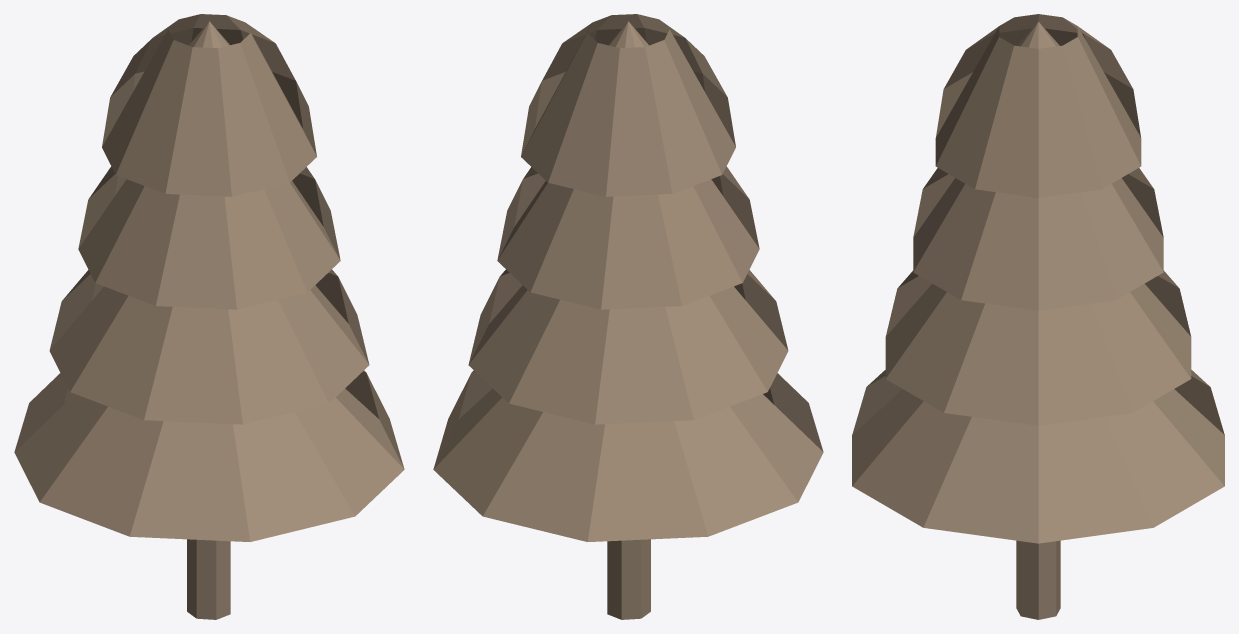
Rendered from tree.glb.
3 views of the same model, side by side, from view 1: azimuth 30°, elevation 25°; view 2: azimuth 150°, elevation 25°; view 3: azimuth 270°, elevation 25° (orthographic).
Visible parts, largest first — view 1: tree; view 2: tree; view 3: tree.
Boxes of the visible parts, left/top/right/bottom form: tree: left=14, top=14, right=404, bottom=619; tree: left=433, top=14, right=823, bottom=619; tree: left=852, top=14, right=1224, bottom=619.
Bounding box in the file's own units: 3.8 × 6.3 × 3.61.
